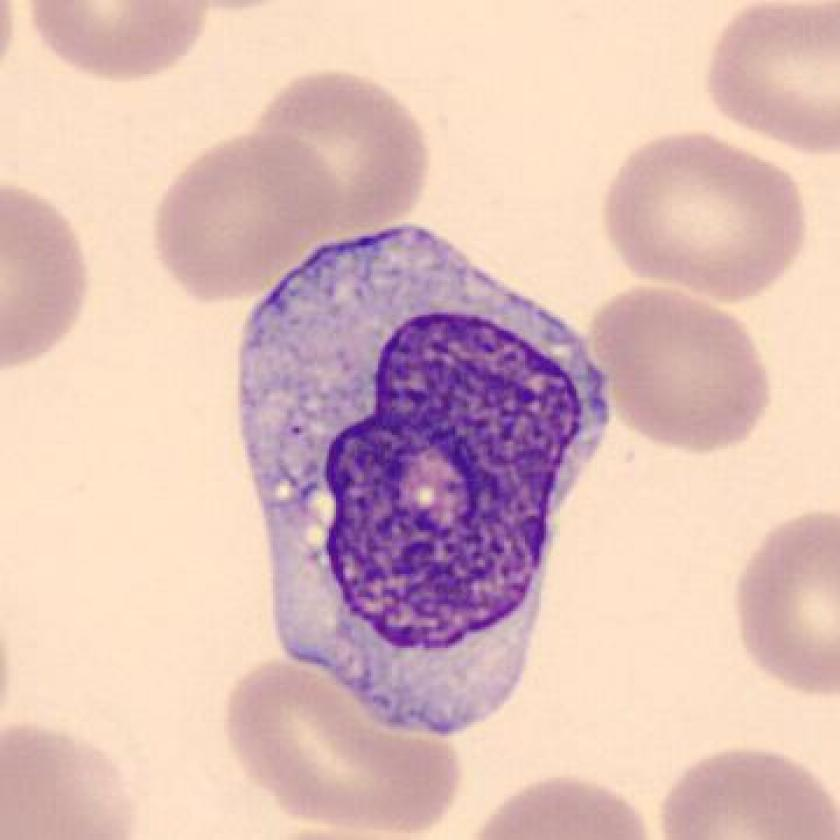monocyte: (218, 202, 626, 751)
